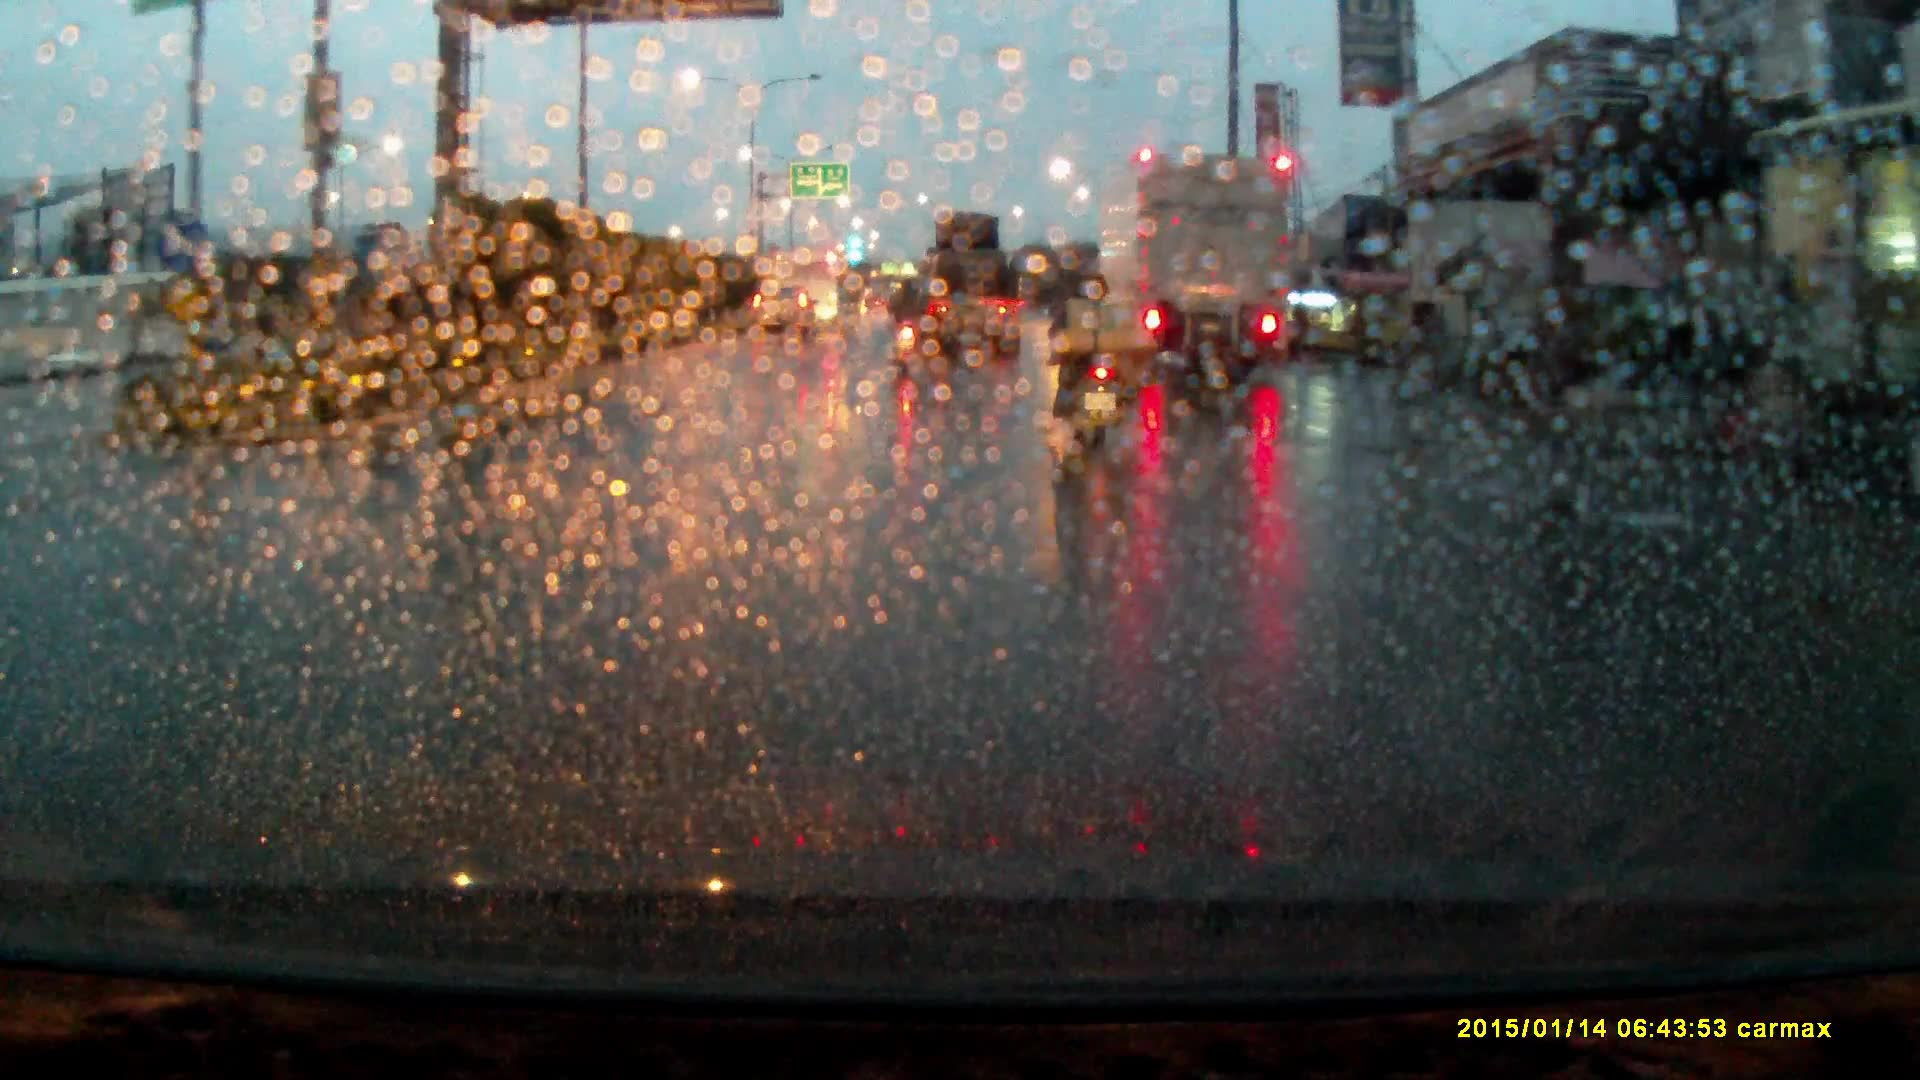rider: (1050, 256, 1135, 449), (891, 268, 929, 362)
vehicle: (1092, 147, 1298, 380), (912, 214, 1018, 363), (778, 244, 853, 327), (750, 285, 821, 351)
